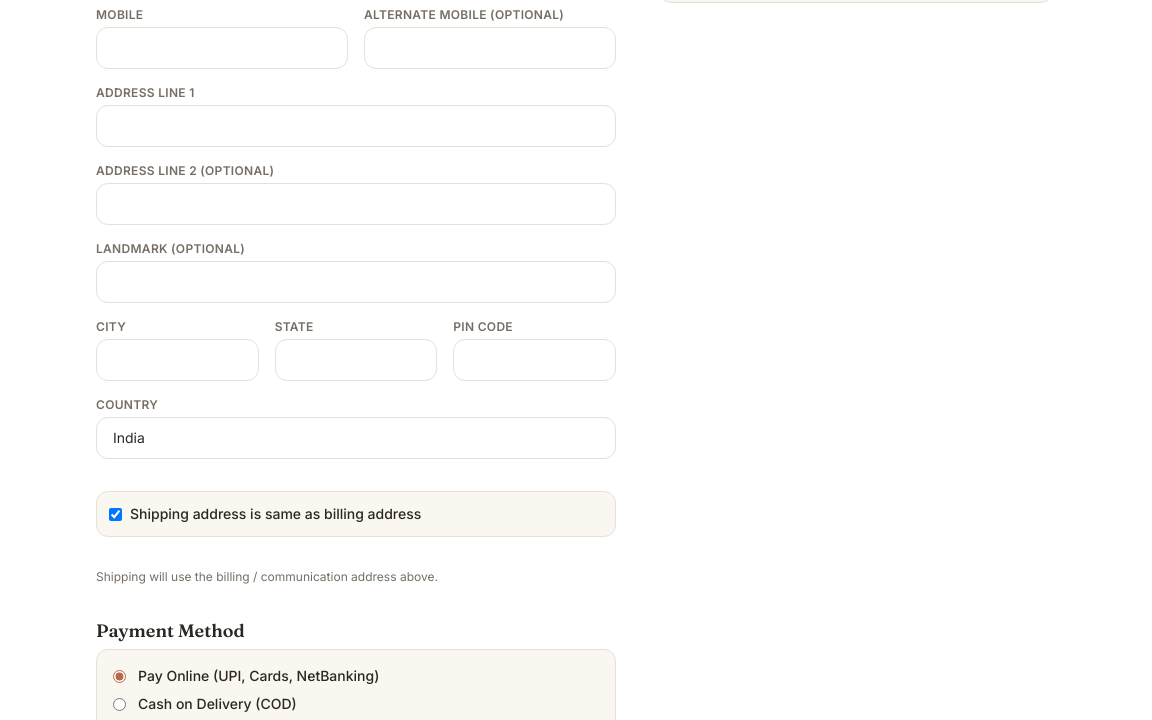
Scenario: Checkout delivery estimate › is informational when not serviceable
(page scrolled)
Step 1. Type "560001" into the field labelled "PIN Code" → (535, 360), box [453,339,616,381]
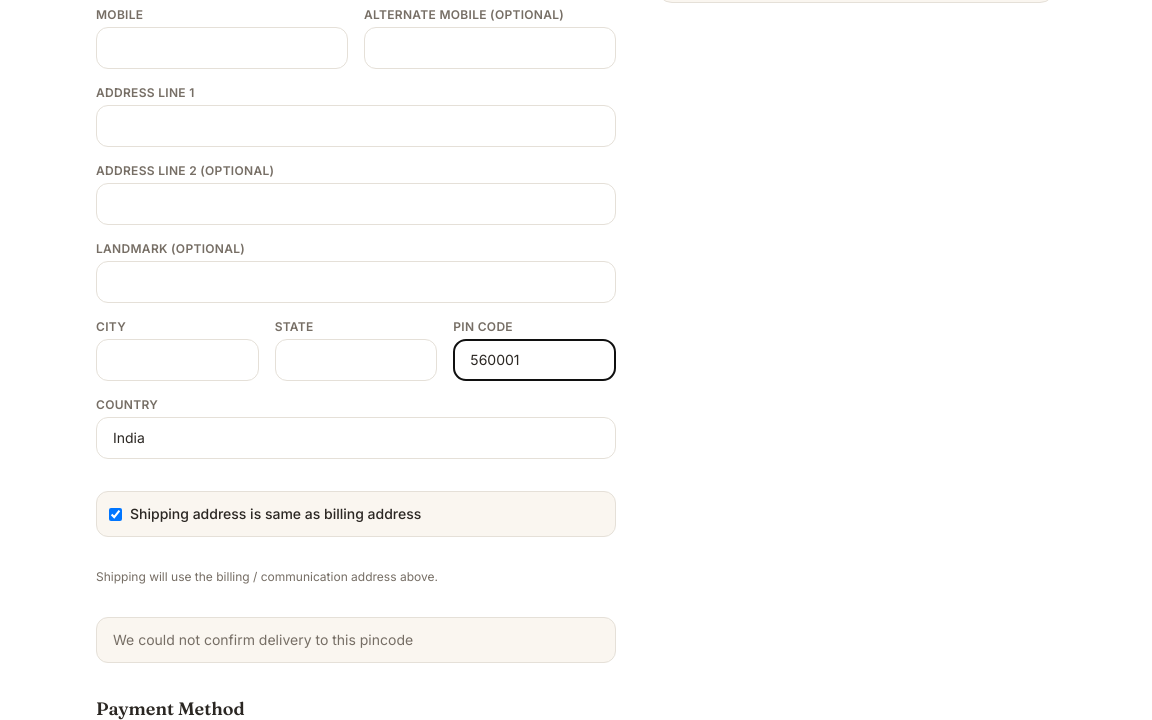
Expected: the text "We could not confirm delivery to this pincode" is shown, [113,631,413,648]
